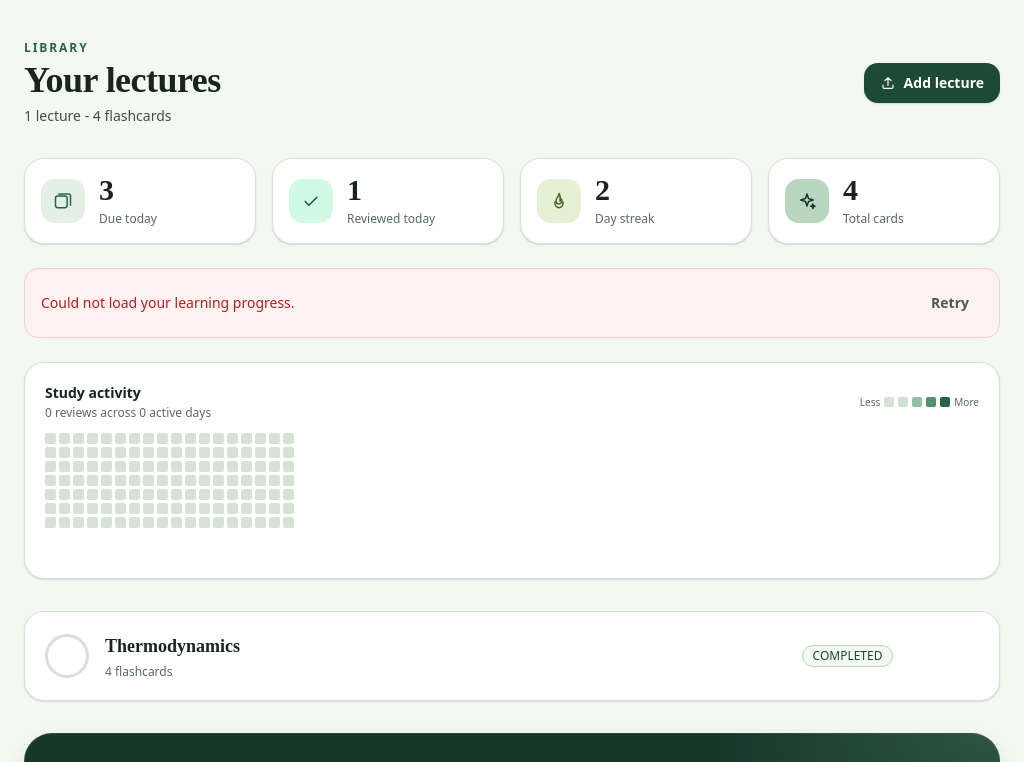
Test: Dashboard learning progress › reports a progress failure with a working retry instead of showing zeros
The image size is (1024, 762).
Expected: the text "Could not load your learning progress." is shown, [41,293,295,313]
Click the button "Retry".
click(950, 303)  # box [917,285,983,321]
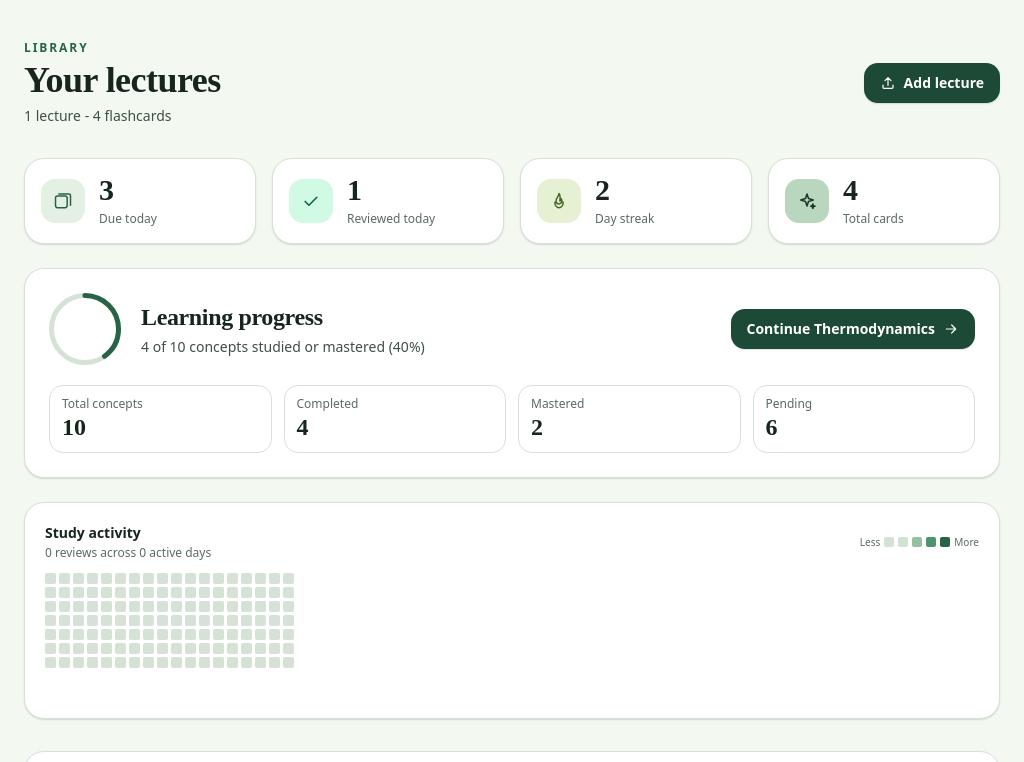
Expected: the element "Learning progress" is shown, [24,268,1000,478]
